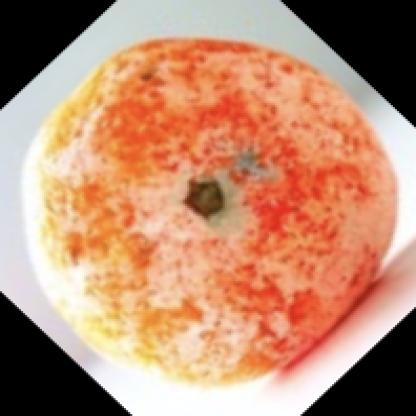rotten: (23, 38, 396, 380)
